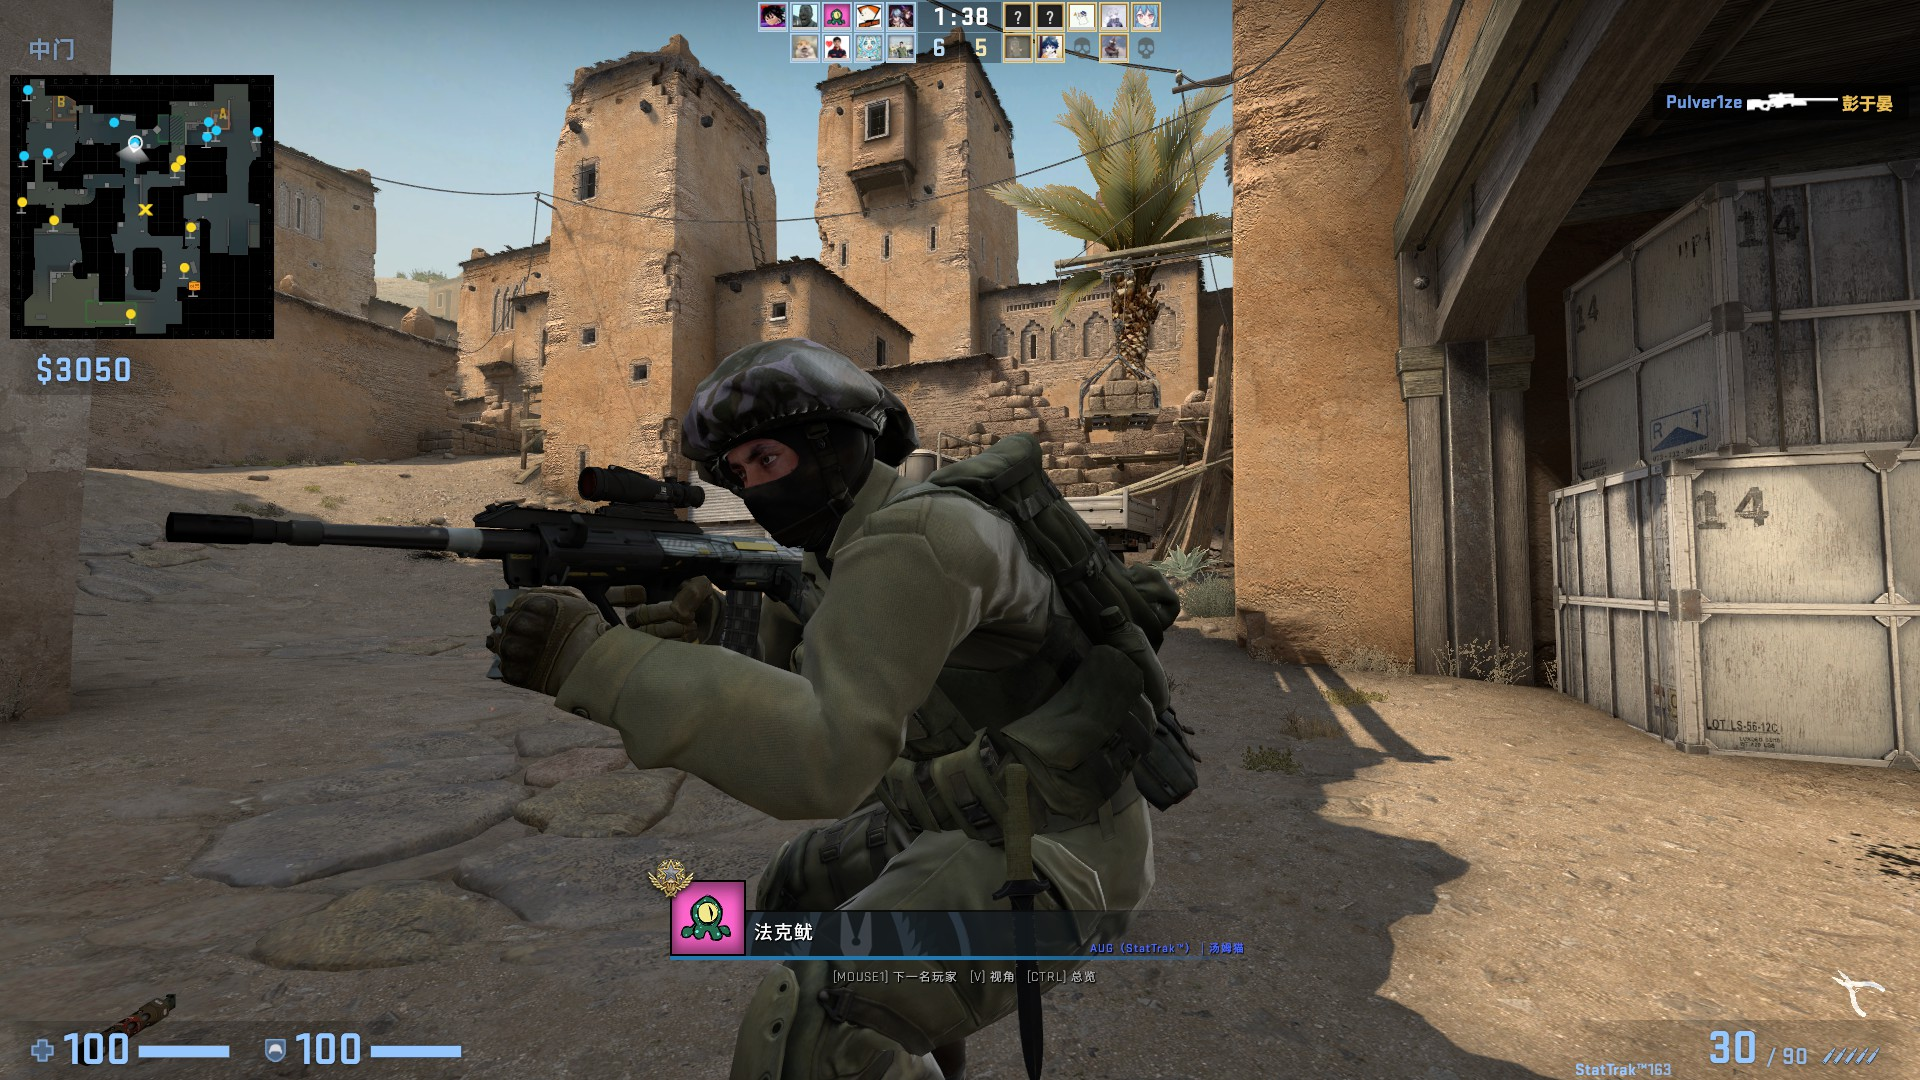head: (675, 336, 915, 525)
